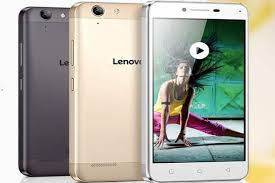lenovo: (145, 1, 249, 183)
